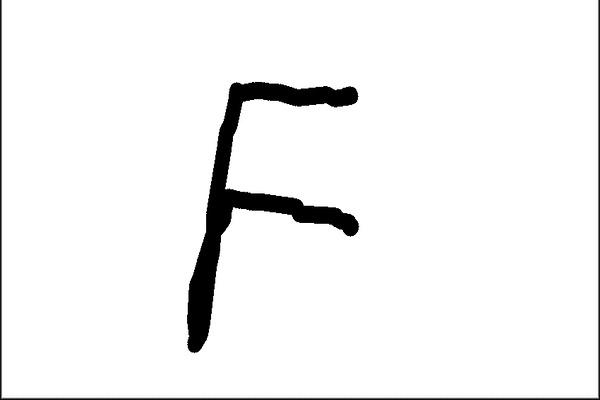F: (182, 78, 364, 354)
